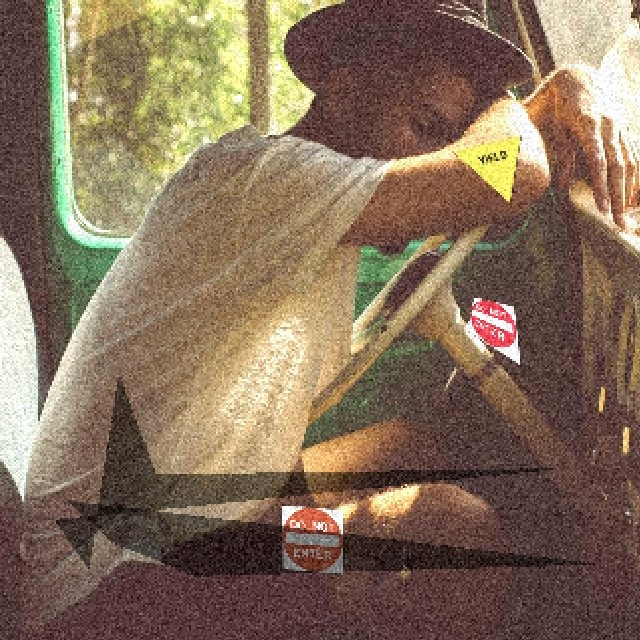DO_NOT_ENTER: (279, 503, 343, 573), (465, 295, 520, 365)
YIELD: (450, 133, 520, 203)
